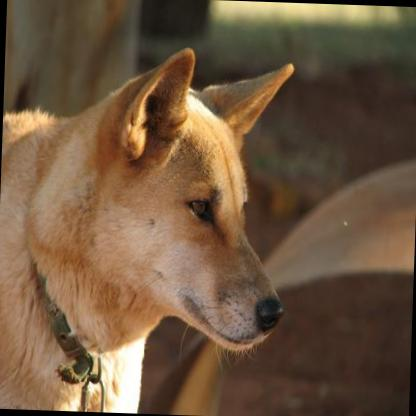dingo: (0, 40, 297, 416)
